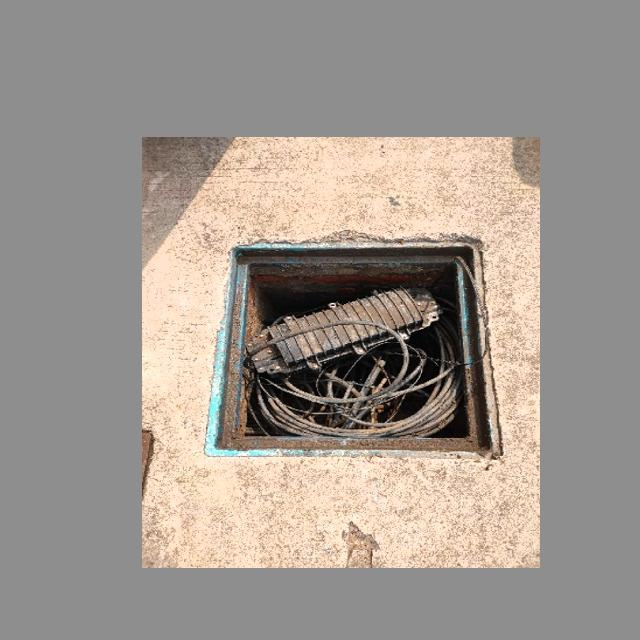lose: (203, 239, 505, 455)
